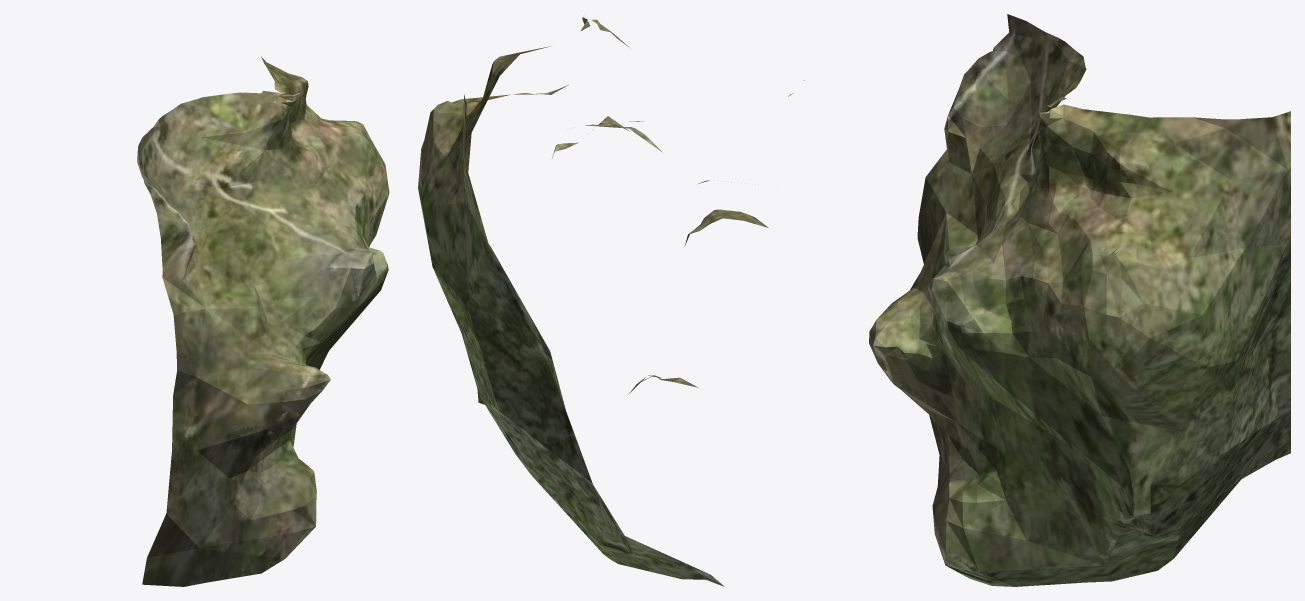
3 views of the same model, side by side, from view 1: azimuth 30°, elevation 25°; view 2: azimuth 150°, elevation 25°; view 3: azimuth 270°, elevation 25° (orthographic). The views are drawn at different scales.
Size of the model in its own units: 2.06 by 2.95 by 2.26.
Materials: 3 (3 with a texture image).
